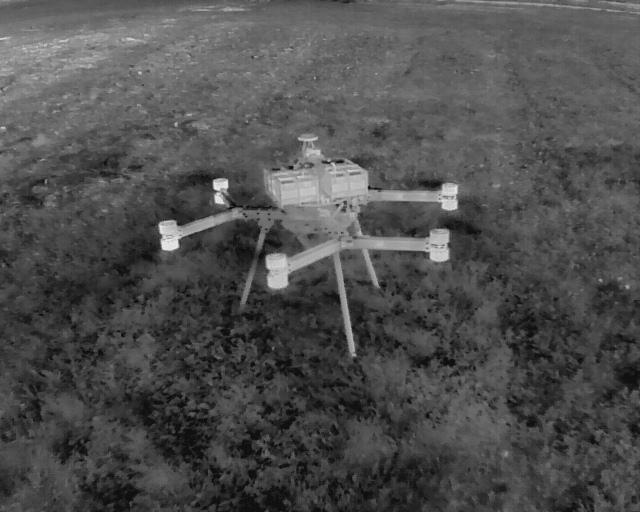drone: (108, 115, 511, 377)
